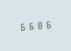eight: (34, 20, 41, 30)
six: (26, 20, 33, 31), (18, 21, 25, 31), (42, 19, 49, 29)
